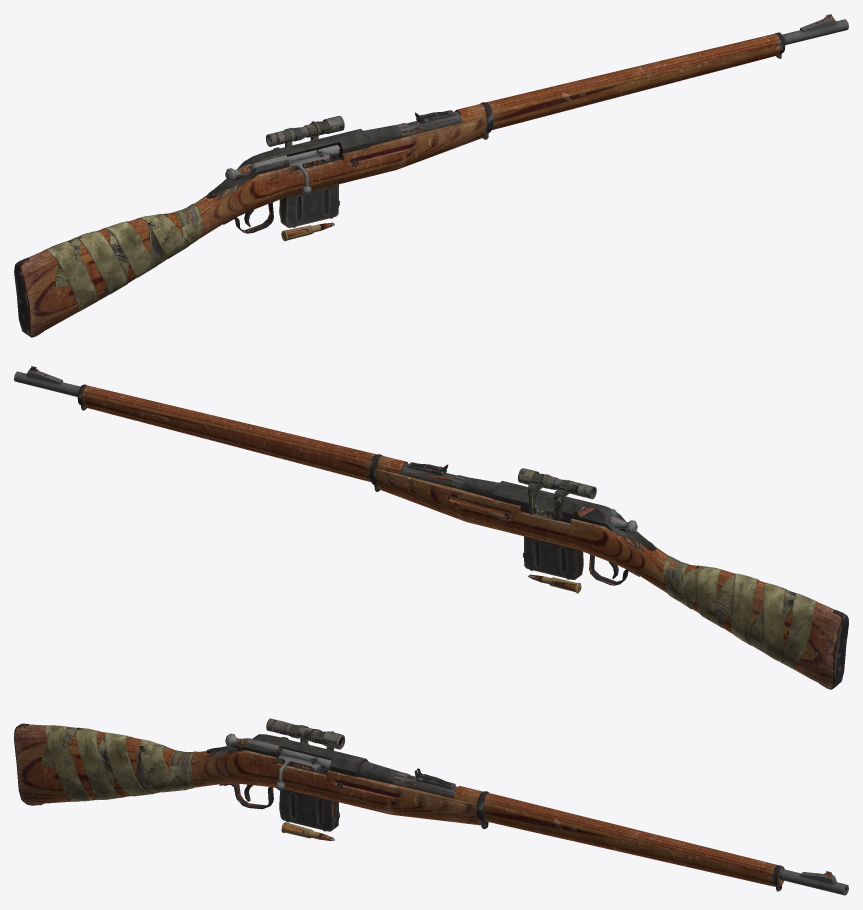
File: bolt_action_rifle_7_62.glb
3 renders of one model, top to bottom at view 1: azimuth 30°, elevation 25°; view 2: azimuth 150°, elevation 25°; view 3: azimuth 330°, elevation 25°, orthographic.
Parts seen in each view (by area): view 1: bolt_action_rifle_7_62, bolt_action_rifle_7_62_scope; view 2: bolt_action_rifle_7_62, bolt_action_rifle_7_62_scope; view 3: bolt_action_rifle_7_62, bolt_action_rifle_7_62_scope.
Part boxes in pixels (<box>): bolt_action_rifle_7_62: <box>14,14,848,337</box>; bolt_action_rifle_7_62_scope: <box>43,116,344,311</box>; bolt_action_rifle_7_62: <box>14,366,848,689</box>; bolt_action_rifle_7_62_scope: <box>518,468,816,668</box>; bolt_action_rifle_7_62: <box>14,723,848,895</box>; bolt_action_rifle_7_62_scope: <box>42,718,345,801</box>.
Size of the model in its own units: 1.23 by 0.2042 by 0.0664.
Materials: 3 (3 with a texture image).
